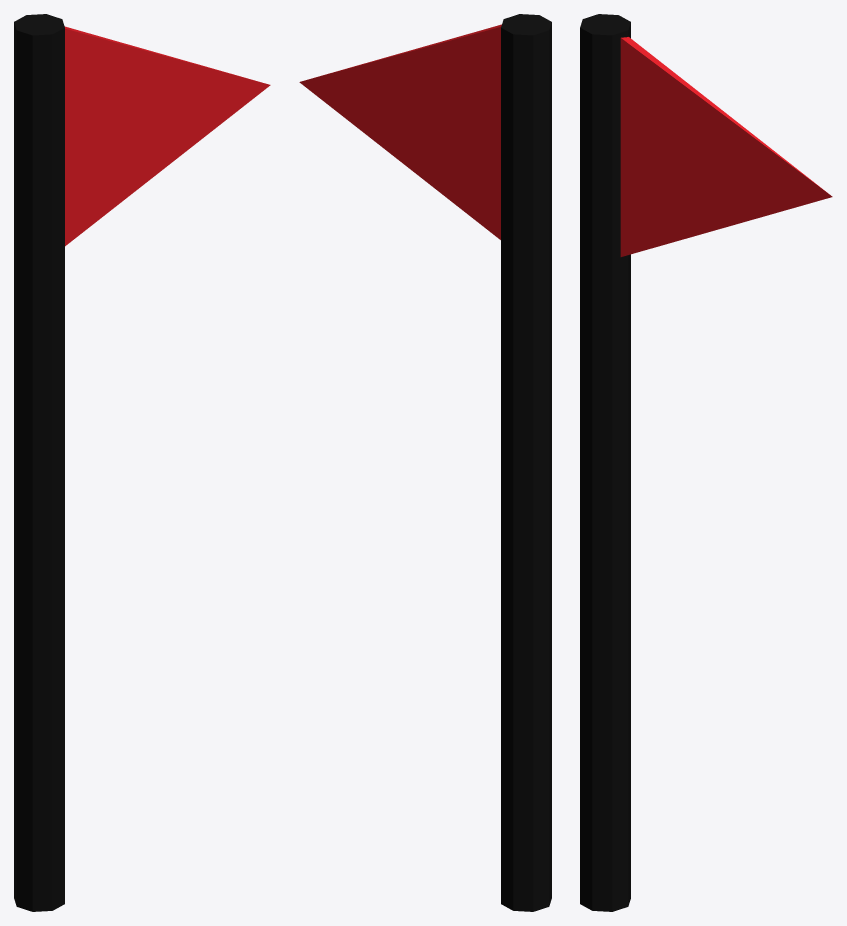
Rendered from Flag.fbx.
3 renders of one model, left to right at view 1: azimuth 30°, elevation 25°; view 2: azimuth 150°, elevation 25°; view 3: azimuth 330°, elevation 25°, orthographic.
Parts seen in each view (by area): view 1: Flag; view 2: Flag; view 3: Flag.
Boxes of the visible parts, x1,y1,x2,y2 form: Flag: (14, 14, 270, 911); Flag: (299, 14, 551, 911); Flag: (580, 14, 832, 911).
Bounding box in the file's own units: 60.22 × 200 × 10.89.
